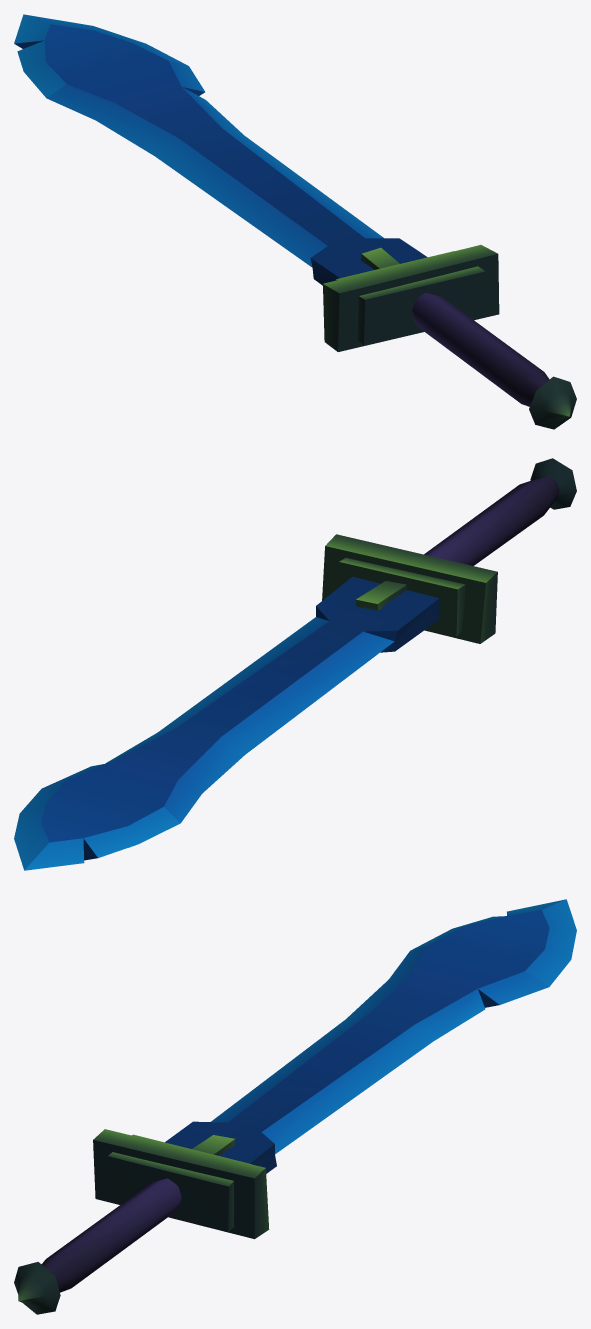
Rendered from sword-blue.fbx.
The picture shows the model from 3 angles, top to bottom: view 1: azimuth 30°, elevation 25°; view 2: azimuth 150°, elevation 25°; view 3: azimuth 330°, elevation 25°; orthographic projection.
Parts seen in each view (by area): view 1: sword2h01_blue; view 2: sword2h01_blue; view 3: sword2h01_blue.
Boxes of the visible parts, <box> form: sword2h01_blue: <box>14,14,576,429</box>; sword2h01_blue: <box>14,458,576,870</box>; sword2h01_blue: <box>14,899,576,1314</box>.
Bounding box in the file's own units: 14.22 × 5.13 × 82.54.
Materials: 1 (1 with a texture image).
